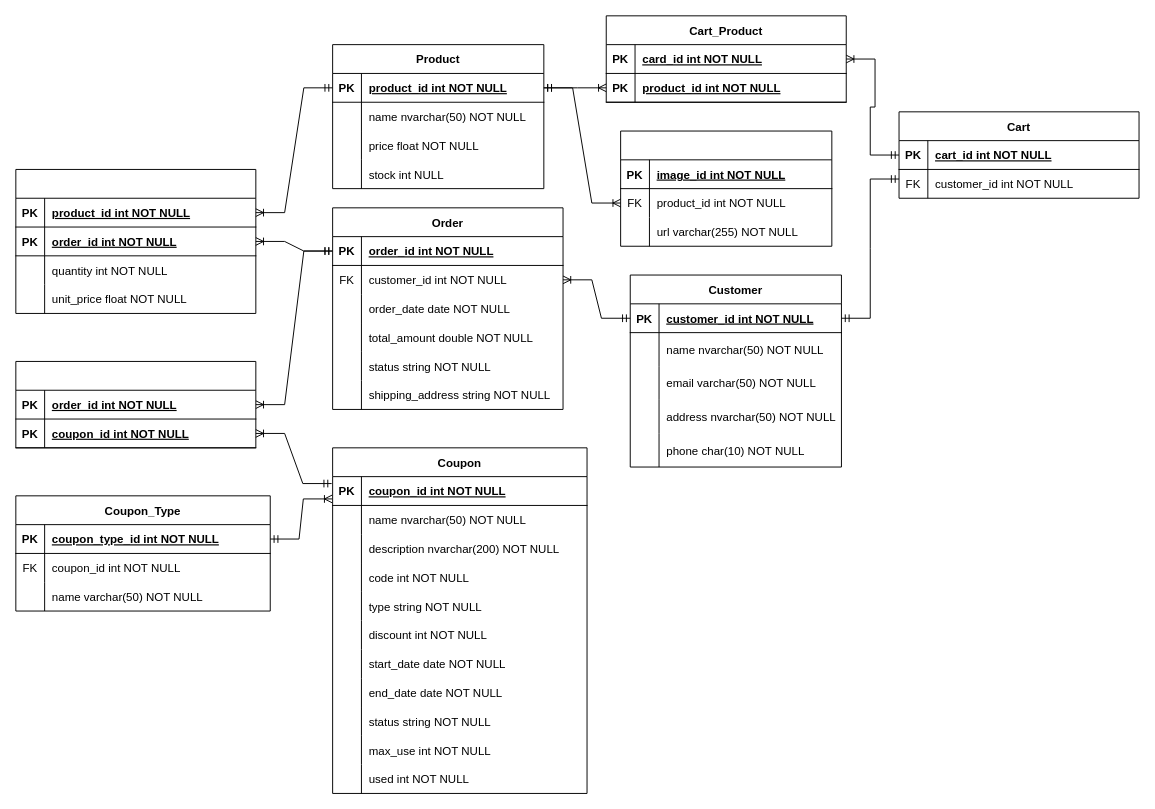
The diagram is 1155 pixels wide and 809 high, and some of its shapes have lost their labels. The shapes that lost their labels are listed below. From the top down, each one's box as (x1, y1, x2, y2) in pixels, then its label:
(620, 130, 832, 246): Product_Image
(15, 168, 256, 313): Order_Product
(15, 360, 256, 448): Order_Coupon
